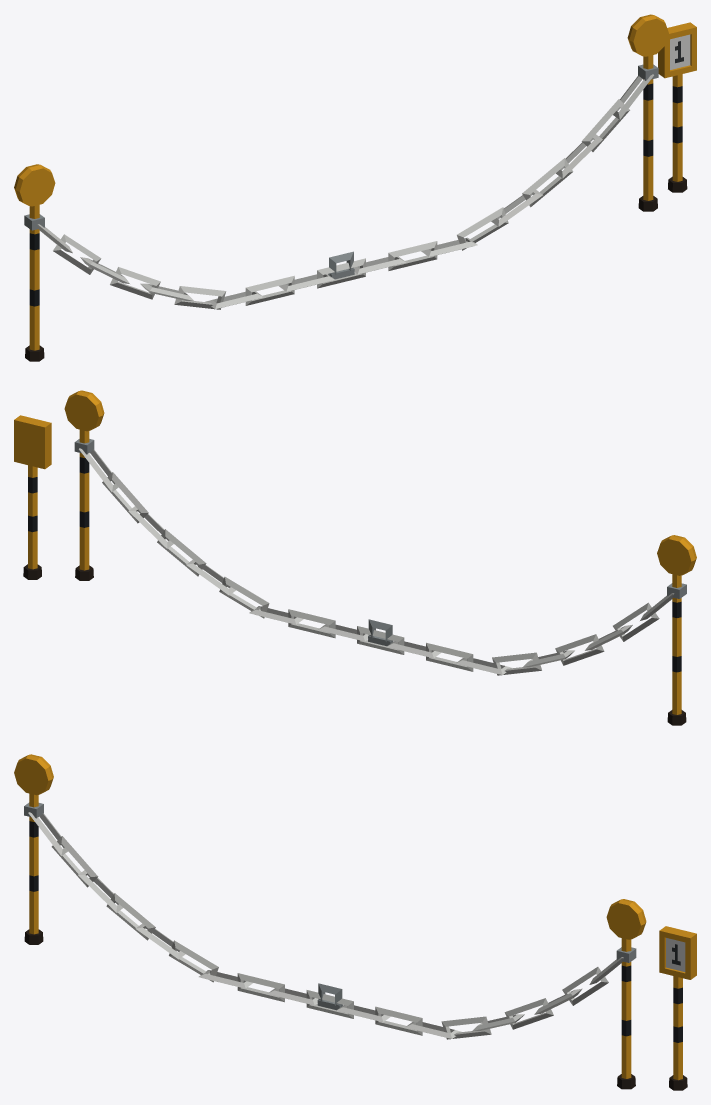
The model's file is chain-crew-set-f2efdc.glb.
The picture shows the model from 3 angles, top to bottom: view 1: azimuth 30°, elevation 25°; view 2: azimuth 150°, elevation 25°; view 3: azimuth 330°, elevation 25°; orthographic projection. The views are drawn at different scales.
Visible parts, largest first — view 1: chain-crew, down-marker-mesh; view 2: chain-crew, down-marker-mesh; view 3: chain-crew, down-marker-mesh.
Part boxes in pixels (x1,y1,x2,y2): chain-crew: [14, 14, 668, 361]; down-marker-mesh: [658, 22, 696, 192]; chain-crew: [64, 390, 696, 725]; down-marker-mesh: [14, 415, 51, 579]; chain-crew: [14, 754, 646, 1089]; down-marker-mesh: [659, 926, 696, 1090].
Size of the model in its own units: 9 by 2.39 by 0.5.
